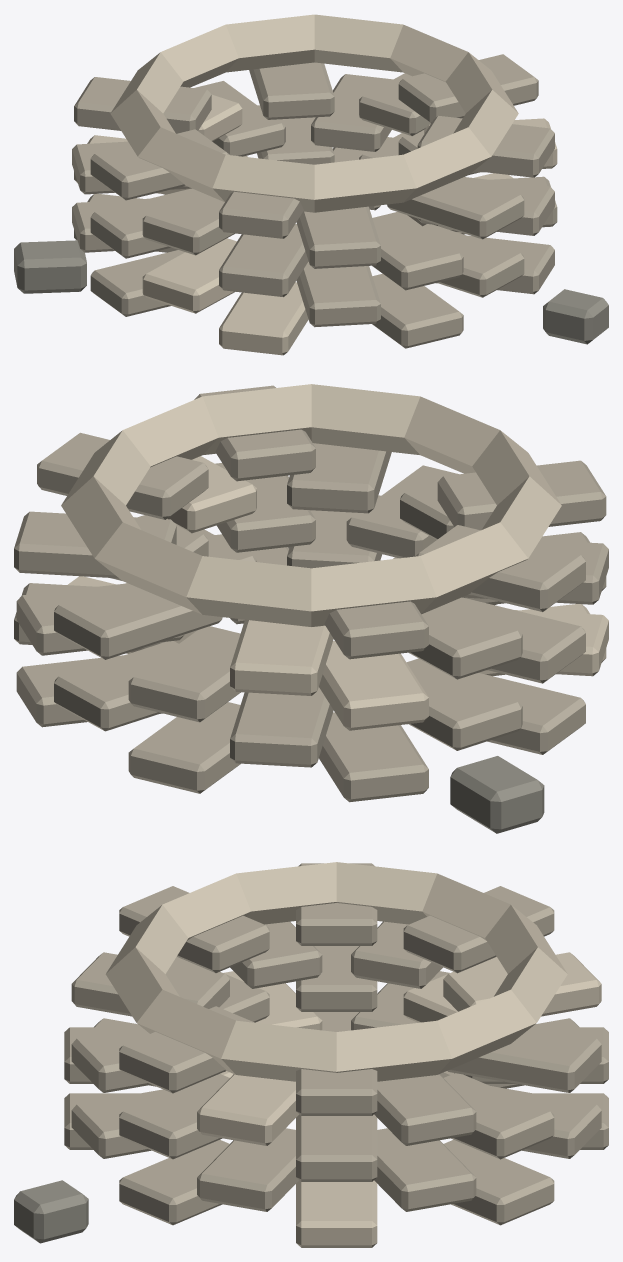
Rendered from runtime.glb.
The picture shows the model from 3 angles, top to bottom: view 1: azimuth 30°, elevation 25°; view 2: azimuth 150°, elevation 25°; view 3: azimuth 270°, elevation 25°; orthographic projection. The views are drawn at different scales.
Parts seen in each view (by area): view 1: falkenwacht-stone-well-v09_nocol; view 2: falkenwacht-stone-well-v09_nocol; view 3: falkenwacht-stone-well-v09_nocol.
Part boxes in pixels (<box>): falkenwacht-stone-well-v09_nocol: <box>14,14,608,355</box>; falkenwacht-stone-well-v09_nocol: <box>14,384,608,833</box>; falkenwacht-stone-well-v09_nocol: <box>14,862,608,1247</box>.
Size of the model in its own units: 2.75 by 1.08 by 2.78.
